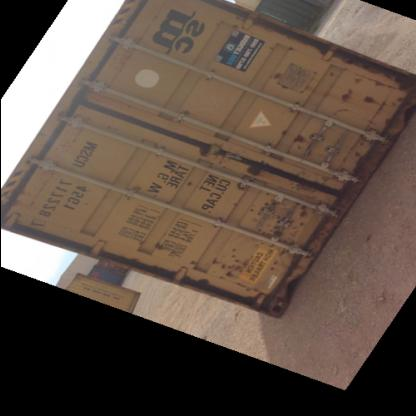Damage: (245, 193, 306, 241), (336, 144, 372, 182), (207, 243, 241, 281), (270, 126, 308, 148), (258, 250, 288, 277), (234, 286, 263, 310), (366, 76, 403, 94), (266, 72, 290, 94), (358, 96, 382, 114), (332, 89, 350, 109), (226, 177, 246, 195), (318, 65, 336, 79), (272, 44, 295, 54), (178, 177, 194, 191), (151, 243, 167, 255), (188, 254, 197, 272), (348, 77, 360, 88)
